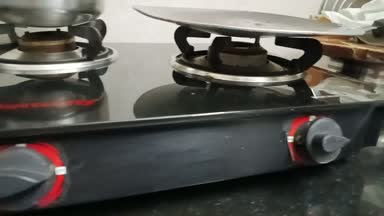flame_gas_off: (179, 29, 354, 165), (0, 22, 90, 210)
